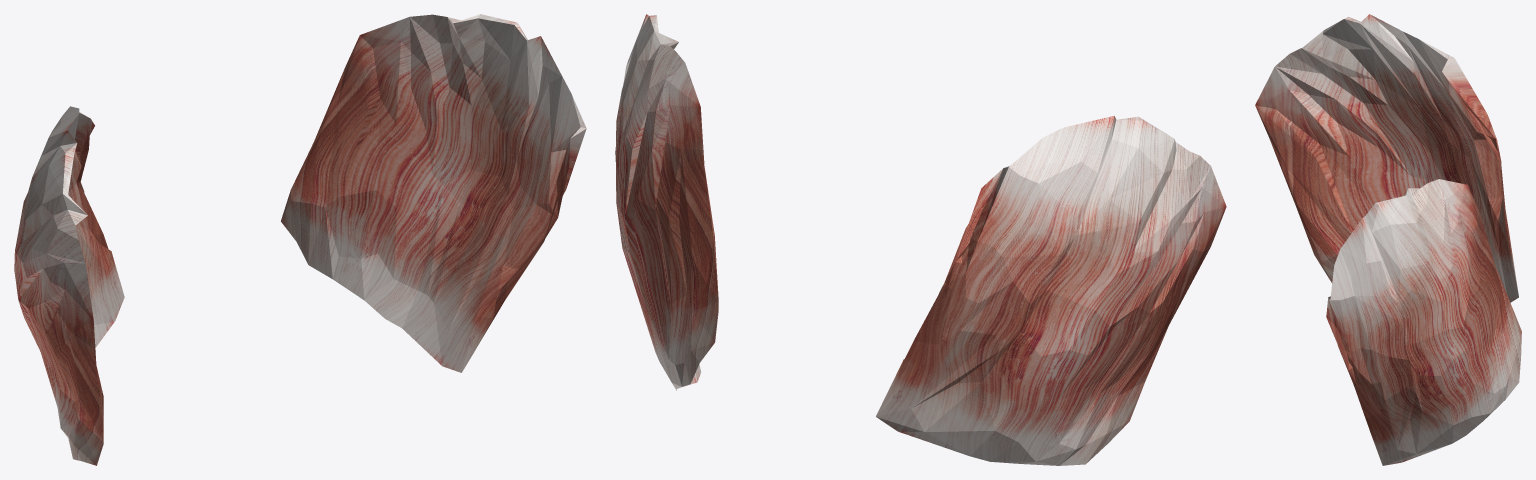
The model's file is Musculo_Occipitofrontal.obj.
3 renders of one model, left to right at view 1: azimuth 30°, elevation 25°; view 2: azimuth 150°, elevation 25°; view 3: azimuth 270°, elevation 25°, orthographic. The views are drawn at different scales.
Visible parts, largest first — view 1: Musculo_Occipitofrontal; view 2: Musculo_Occipitofrontal; view 3: Musculo_Occipitofrontal.
Part boxes in pixels (x1,y1,x2,y2): Musculo_Occipitofrontal: (14,14,586,465); Musculo_Occipitofrontal: (615,14,1226,465); Musculo_Occipitofrontal: (1255,14,1521,465).
Size of the model in its own units: 0.475 by 0.2891 by 0.2422.
1 material, 1 textured.
